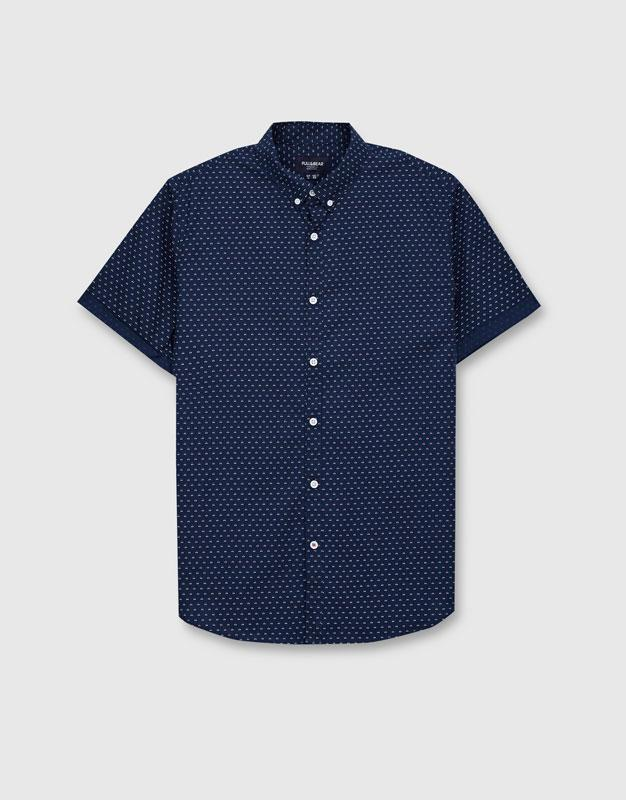teeshirt: (90, 114, 541, 668)
